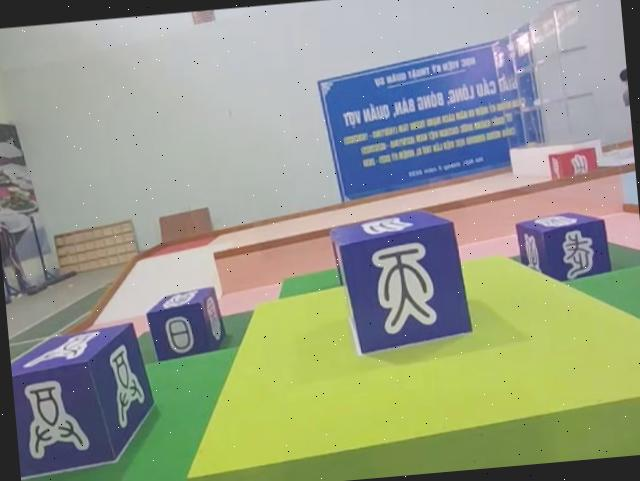R2 Fake Blue: (329, 206, 475, 359), (513, 206, 612, 284), (142, 285, 226, 363)
R2 Real Blue: (7, 324, 156, 480)
